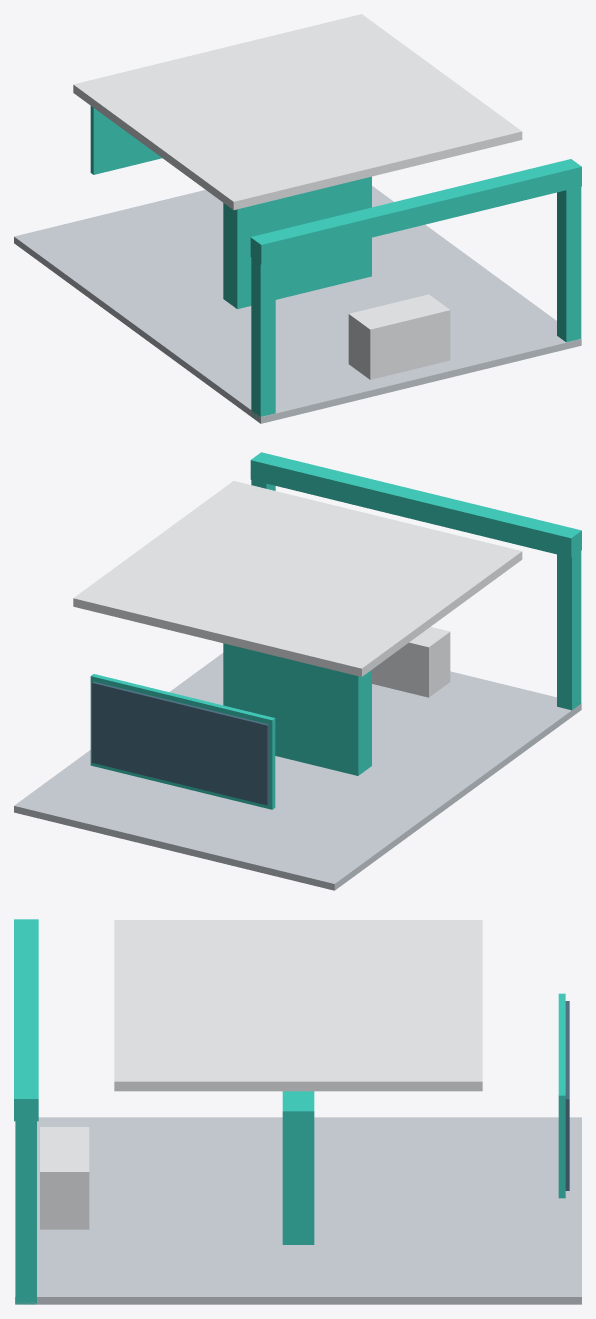
3 renders of one model, top to bottom at view 1: azimuth 30°, elevation 25°; view 2: azimuth 150°, elevation 25°; view 3: azimuth 270°, elevation 25°, orthographic. The views are drawn at different scales.
Parts seen in each view (by area): view 1: Exhibition Booth Concept; view 2: Exhibition Booth Concept; view 3: Exhibition Booth Concept.
Part boxes in pixels (left/top/right/bottom): Exhibition Booth Concept: left=14, top=14, right=581, bottom=423; Exhibition Booth Concept: left=14, top=452, right=581, bottom=890; Exhibition Booth Concept: left=14, top=919, right=581, bottom=1304.
Bounding box in the file's own units: 6 × 3.34 × 8.01.
